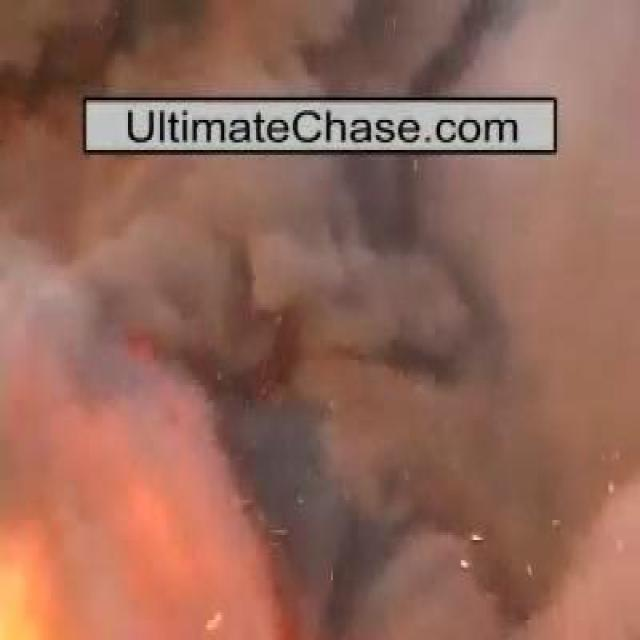Smoke: (19, 161, 578, 554)
